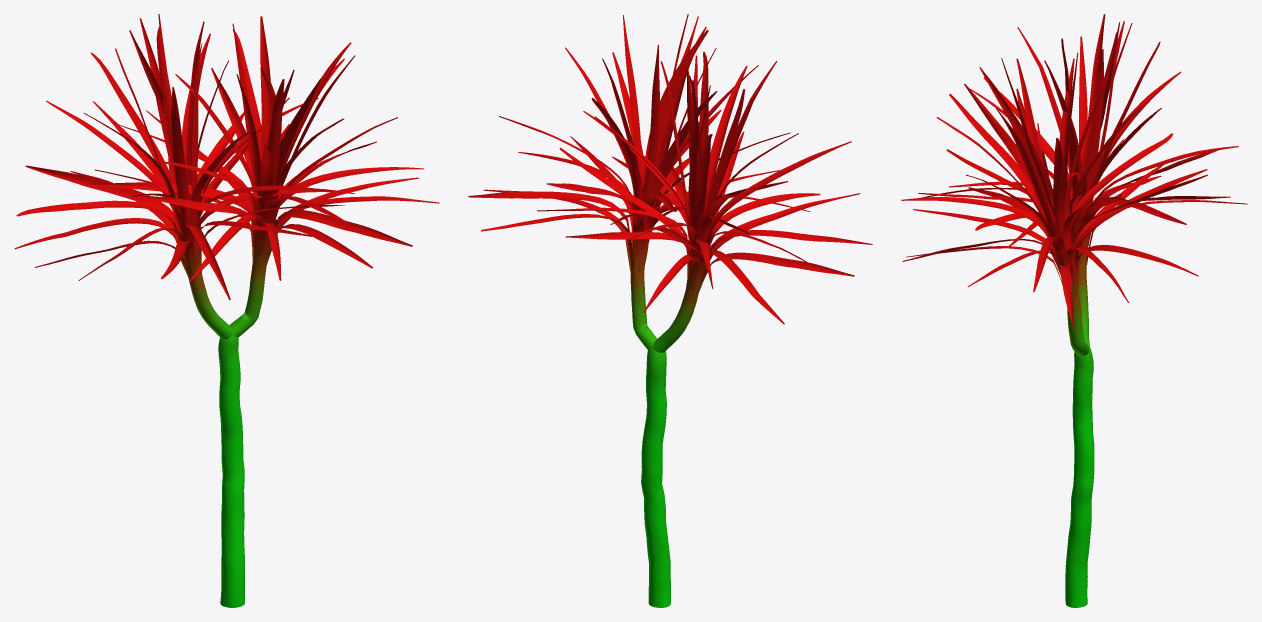
The model's file is Dragon Tree_LOD0_Var7_wfypejzha.fbx.
The picture shows the model from 3 angles, left to right: view 1: azimuth 30°, elevation 25°; view 2: azimuth 150°, elevation 25°; view 3: azimuth 270°, elevation 25°; orthographic projection. The views are drawn at different scales.
Visible parts, largest first — view 1: _puju_Var7_LOD0; view 2: _puju_Var7_LOD0; view 3: _puju_Var7_LOD0.
Boxes of the visible parts, <box> form: _puju_Var7_LOD0: <box>14,14,439,607</box>; _puju_Var7_LOD0: <box>468,14,872,607</box>; _puju_Var7_LOD0: <box>901,14,1247,607</box>.
Bounding box in the file's own units: 32.38 × 47.12 × 26.53.
